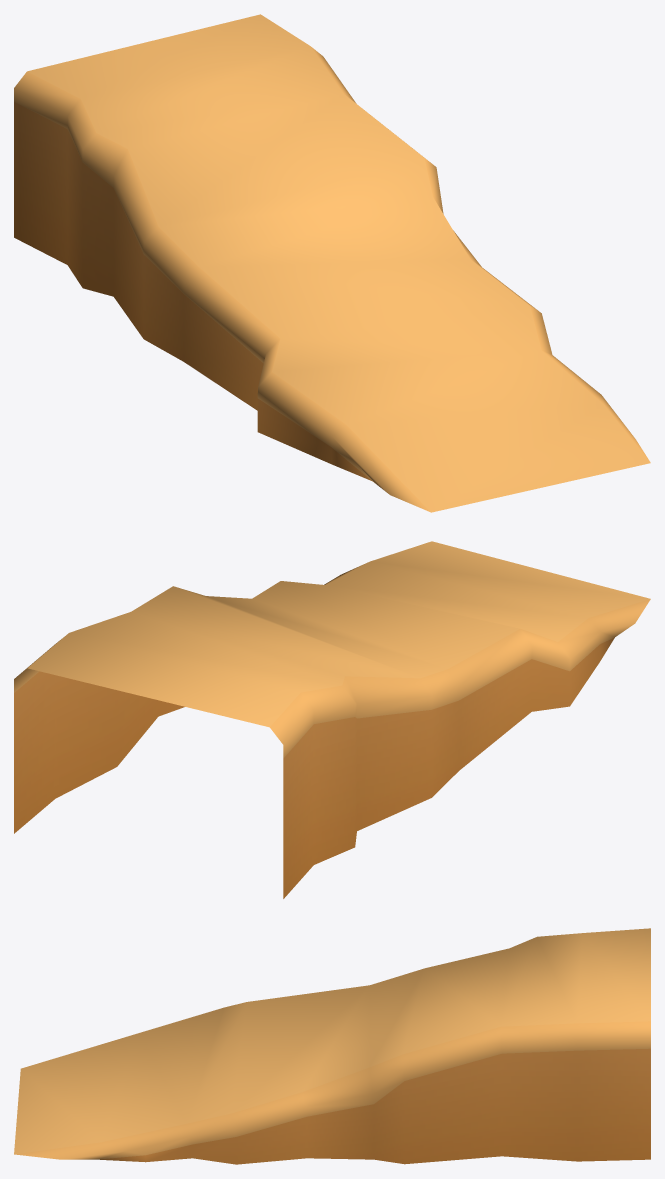
Rendered from Straight Slope 02.FBX.
3 renders of one model, top to bottom at view 1: azimuth 30°, elevation 25°; view 2: azimuth 150°, elevation 25°; view 3: azimuth 270°, elevation 25°, orthographic. The views are drawn at different scales.
Parts seen in each view (by area): view 1: Straight Slope 02; view 2: Straight Slope 02; view 3: Straight Slope 02.
Part boxes in pixels (x1,y1,x2,y2): Straight Slope 02: (14, 14, 650, 512); Straight Slope 02: (14, 541, 650, 898); Straight Slope 02: (14, 928, 650, 1164).
Size of the model in its own units: 556 by 300 by 1301.
Materials: 1 (1 with a texture image).
